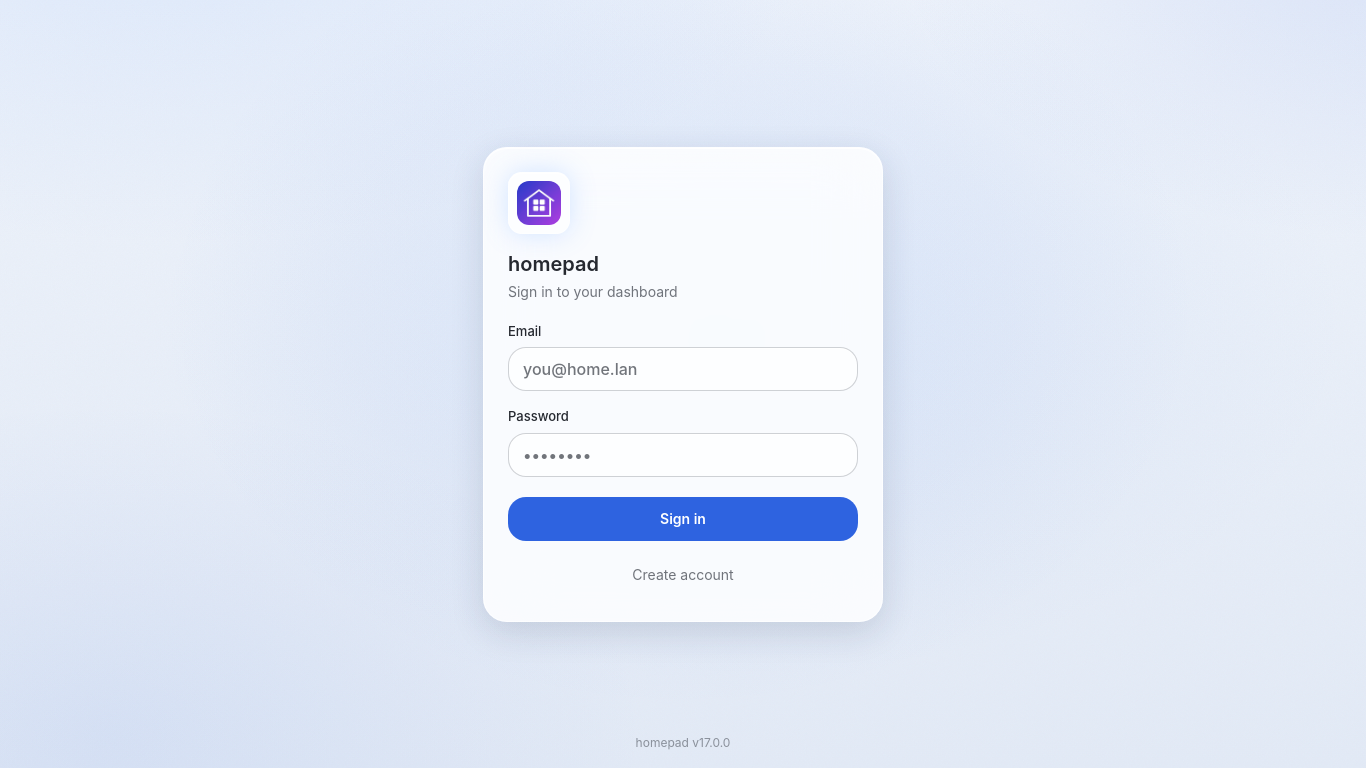
it: auth gate › shows an error message when login fails
Type "nani@ohana.io" into the field labelled "Email". click: [683, 369]
box: [508, 347, 858, 391]
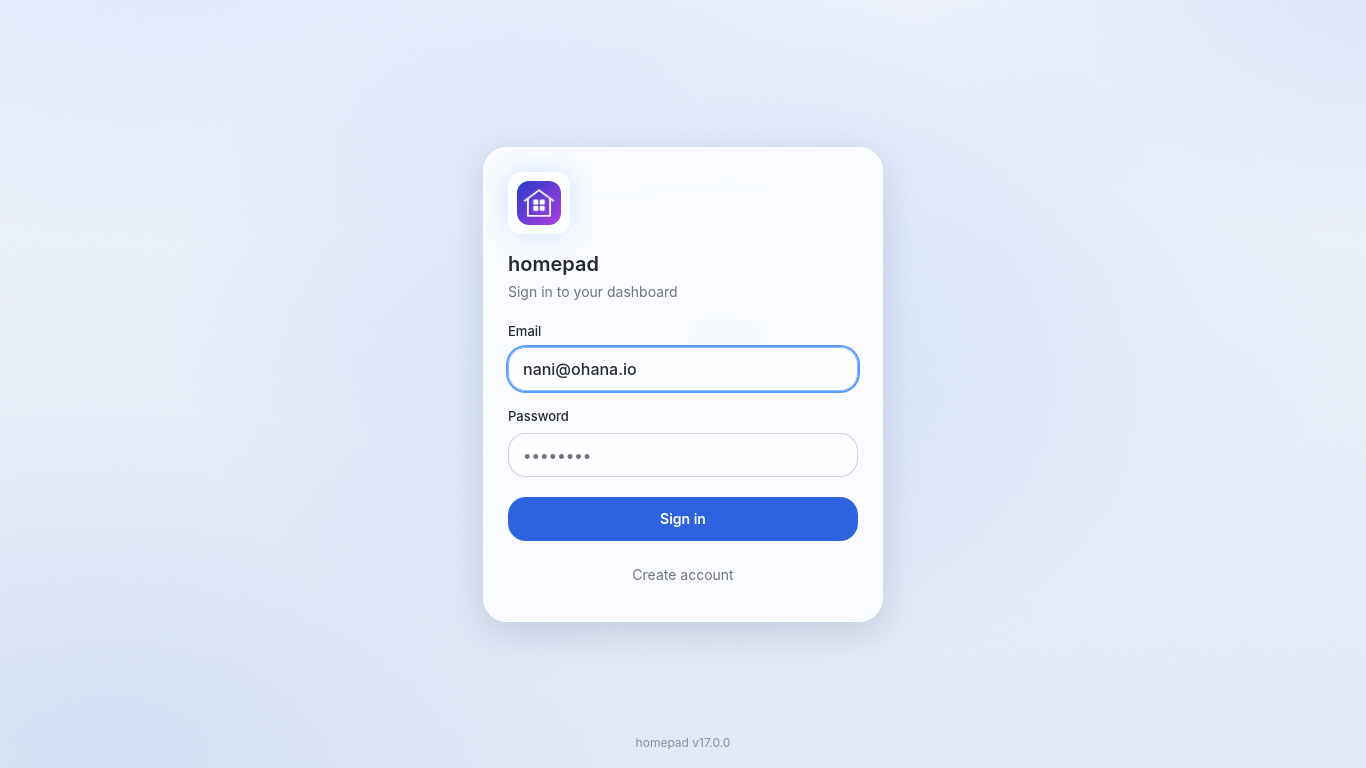
Type "wrong" into the password field labelled "Password". click: [683, 454]
box: [508, 432, 858, 476]
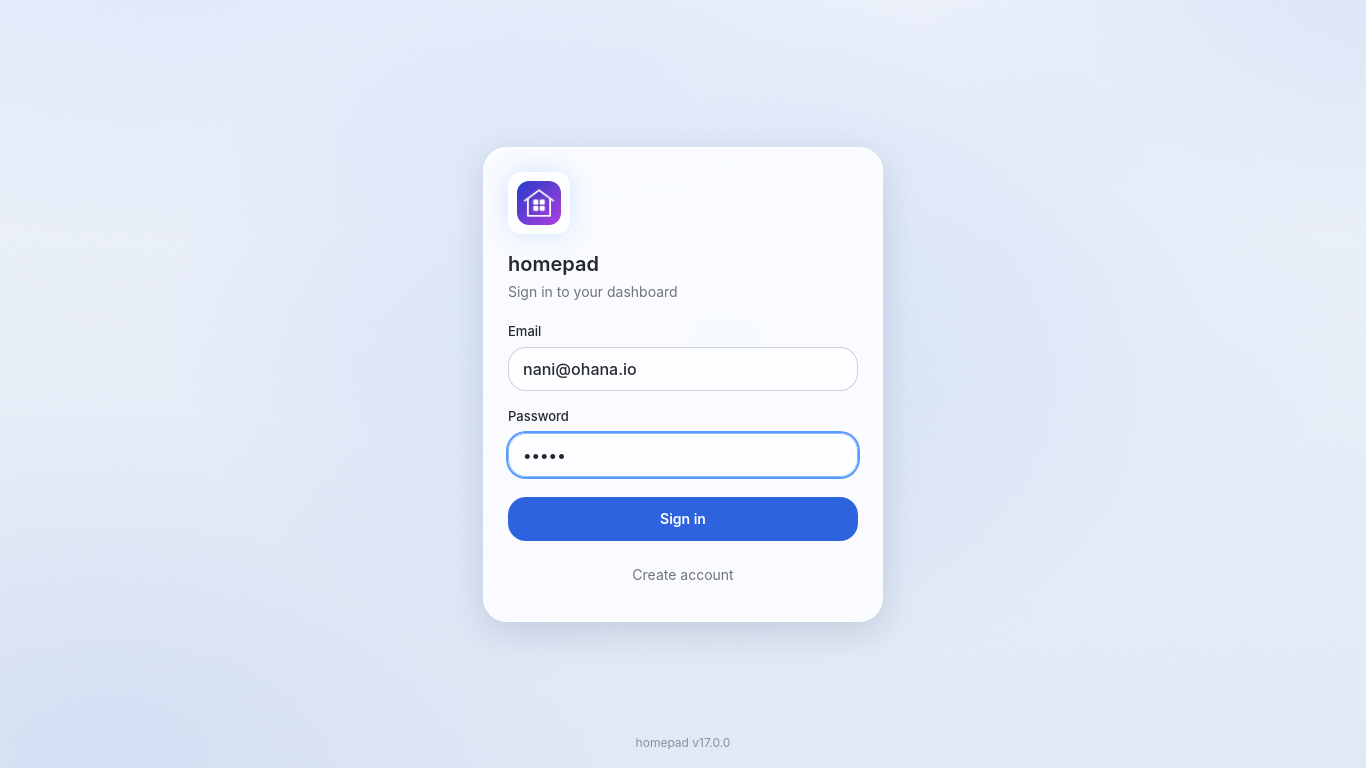
Click the button "Sign in". click: [683, 518]
box: [508, 496, 858, 540]
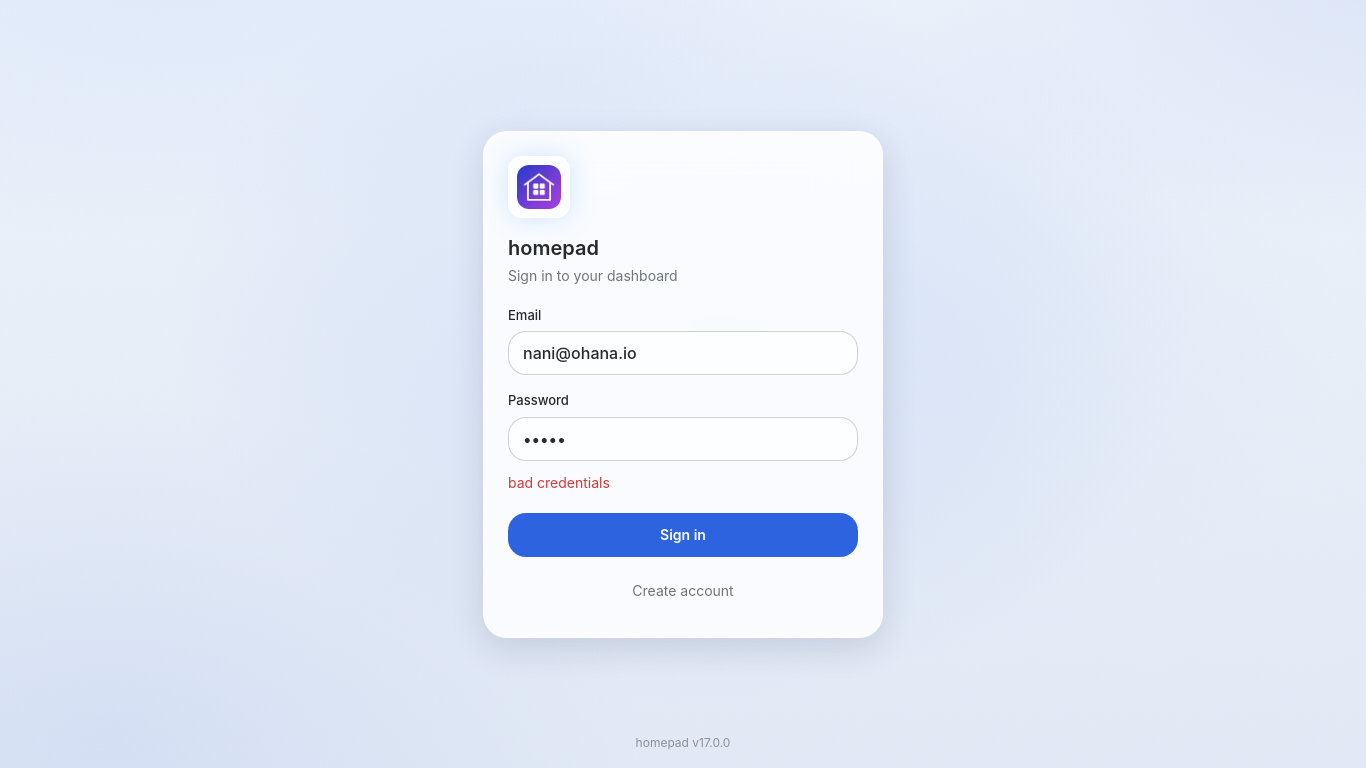
Expected: the text "bad credentials" is shown, [508, 474, 610, 490]
